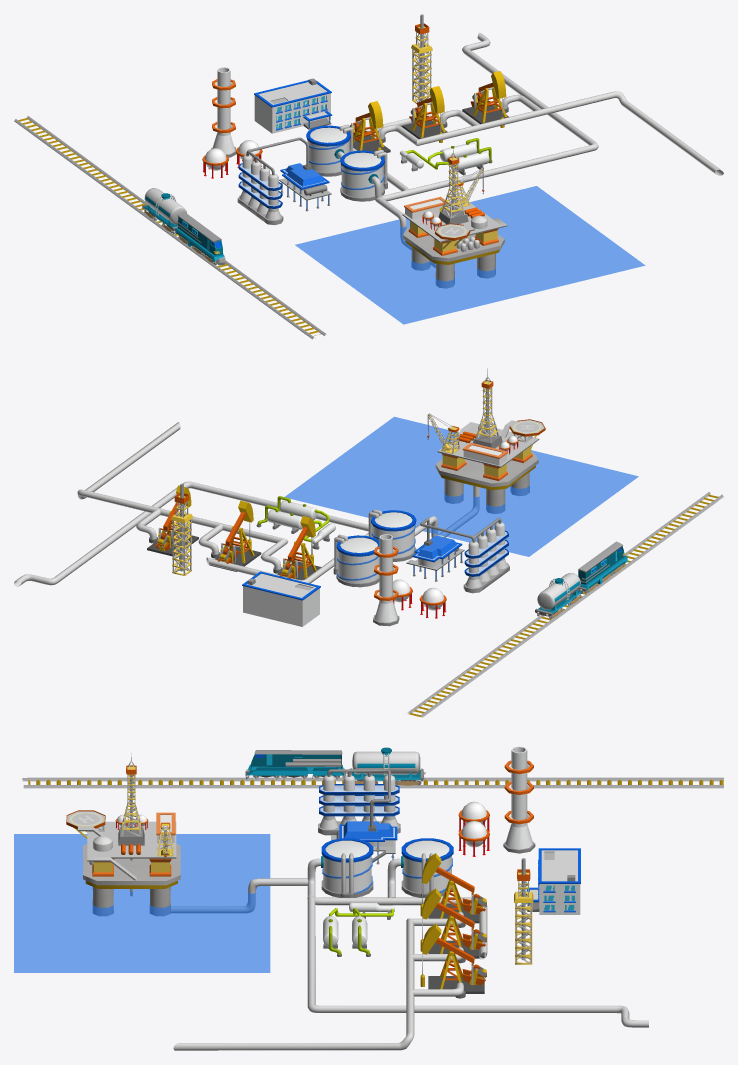
The model's file is hidroDraco.gltf.
3 views of the same model, one above another, from view 1: azimuth 30°, elevation 25°; view 2: azimuth 150°, elevation 25°; view 3: azimuth 270°, elevation 25° (orthographic). The views are drawn at different scales.
Visible parts, largest first — view 1: sea, Oil_PlatformBase.002, railway_01, oil_refining_01.001, pipeline_02.001, oil_refining_05.001, pipeline_01.001, oil_tank_04.001, oil_tank_03.001, oil_pump_03.001, oil_pump_02.001, petrol_refining_12.001 (+10 smaller); view 2: sea, Oil_PlatformBase.002, railway_01, oil_refining_01.001, pipeline_02.001, oil_refining_05.001, oil_tank_03.001, pipeline_01.001, oil_pump_02.001, oil_tank_04.001, petrol_refining_12.001, oil_pump_01.001 (+12 smaller); view 3: sea, Oil_PlatformBase.002, railway_01, pipeline_02.001, oil_refining_05.001, oil_tank_04.001, oil_refining_01.001, pipeline_01.001, oil_tank_03.001, oil_pump_03.001, train_01.001, petrol_refining_12.001 (+11 smaller).
Part boxes in pixels (bbox=[...]): sea: bbox=[295, 186, 645, 324]; Oil_PlatformBase.002: bbox=[402, 202, 507, 288]; railway_01: bbox=[14, 116, 326, 339]; oil_refining_01.001: bbox=[254, 78, 332, 133]; pipeline_02.001: bbox=[375, 33, 598, 268]; oil_refining_05.001: bbox=[237, 137, 308, 225]; pipeline_01.001: bbox=[413, 91, 723, 175]; oil_tank_04.001: bbox=[340, 149, 404, 201]; oil_tank_03.001: bbox=[306, 124, 352, 176]; oil_pump_03.001: bbox=[462, 71, 541, 127]; oil_pump_02.001: bbox=[402, 86, 479, 142]; petrol_refining_12.001: bbox=[211, 67, 236, 157]; sea: bbox=[285, 416, 638, 556]; Oil_PlatformBase.002: bbox=[435, 419, 545, 513]; railway_01: bbox=[408, 492, 723, 717]; oil_refining_01.001: bbox=[242, 571, 320, 626]; pipeline_02.001: bbox=[14, 481, 479, 586]; oil_refining_05.001: bbox=[420, 517, 509, 593]; oil_tank_03.001: bbox=[333, 534, 379, 587]; pipeline_01.001: bbox=[77, 422, 288, 544]; oil_pump_02.001: bbox=[198, 500, 261, 571]; oil_tank_04.001: bbox=[368, 509, 416, 561]; petrol_refining_12.001: bbox=[373, 534, 399, 626]; oil_pump_01.001: bbox=[260, 516, 321, 579]; sea: bbox=[14, 834, 270, 972]; Oil_PlatformBase.002: bbox=[66, 810, 180, 915]; railway_01: bbox=[22, 777, 723, 788]; pipeline_02.001: bbox=[171, 878, 648, 1027]; oil_refining_05.001: bbox=[318, 769, 400, 835]; oil_tank_04.001: bbox=[307, 838, 373, 897]; oil_refining_01.001: bbox=[526, 848, 580, 914]; pipeline_01.001: bbox=[173, 918, 414, 1050]; oil_tank_03.001: bbox=[387, 838, 453, 897]; oil_pump_03.001: bbox=[410, 924, 486, 998]; train_01.001: bbox=[245, 750, 346, 779]; petrol_refining_12.001: bbox=[503, 746, 535, 853].
Bounding box in the file's own units: 4.72 × 1.3 × 5.17.
Materials: 3 (2 with a texture image).
